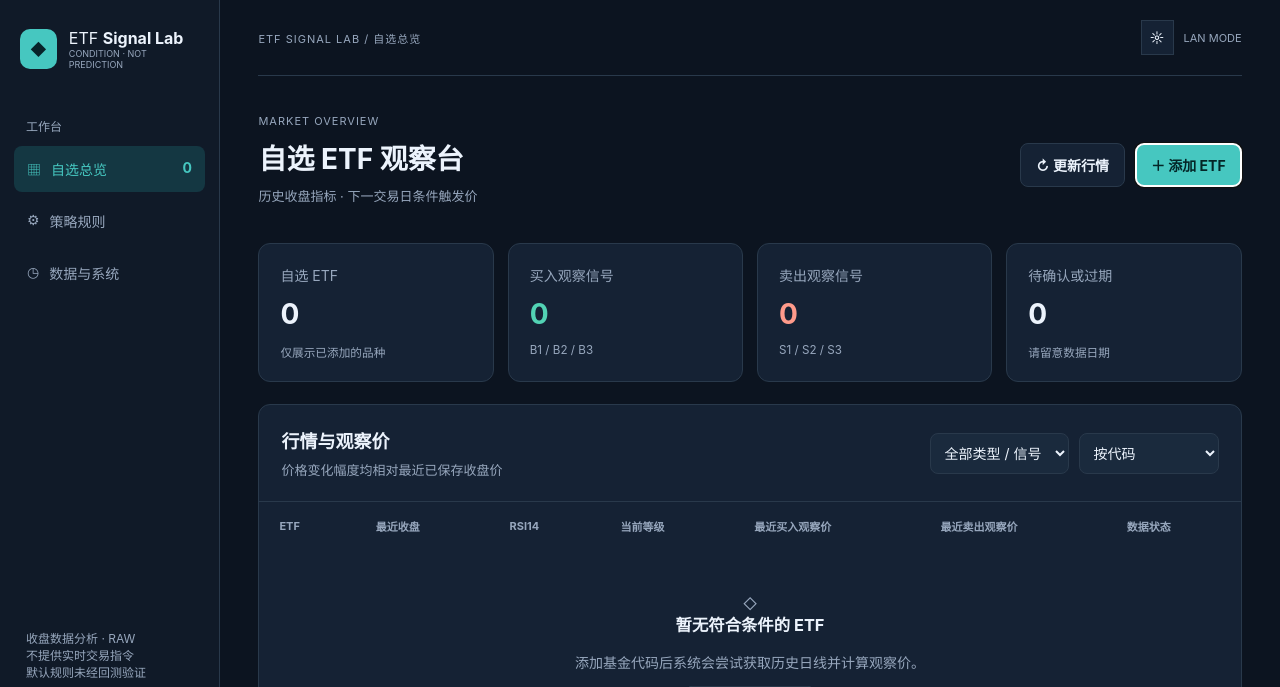
ETF panel interaction › renders the short, full and market names from search results
Click the button "＋ 添加 ETF".
click(1188, 164)  # box [1135,142,1242,186]
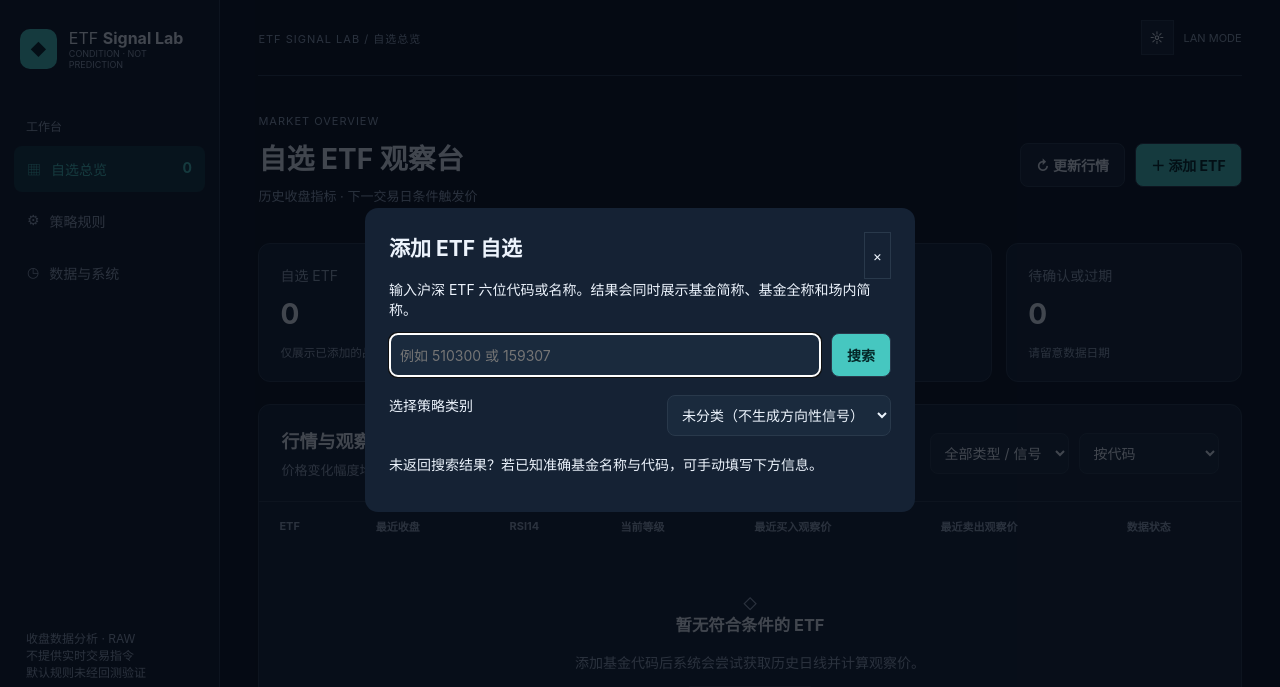
Type "159307" into the field with placeholder "例如 510300 或 159307".
click(605, 355); type("159307")  # box [389,333,821,377]
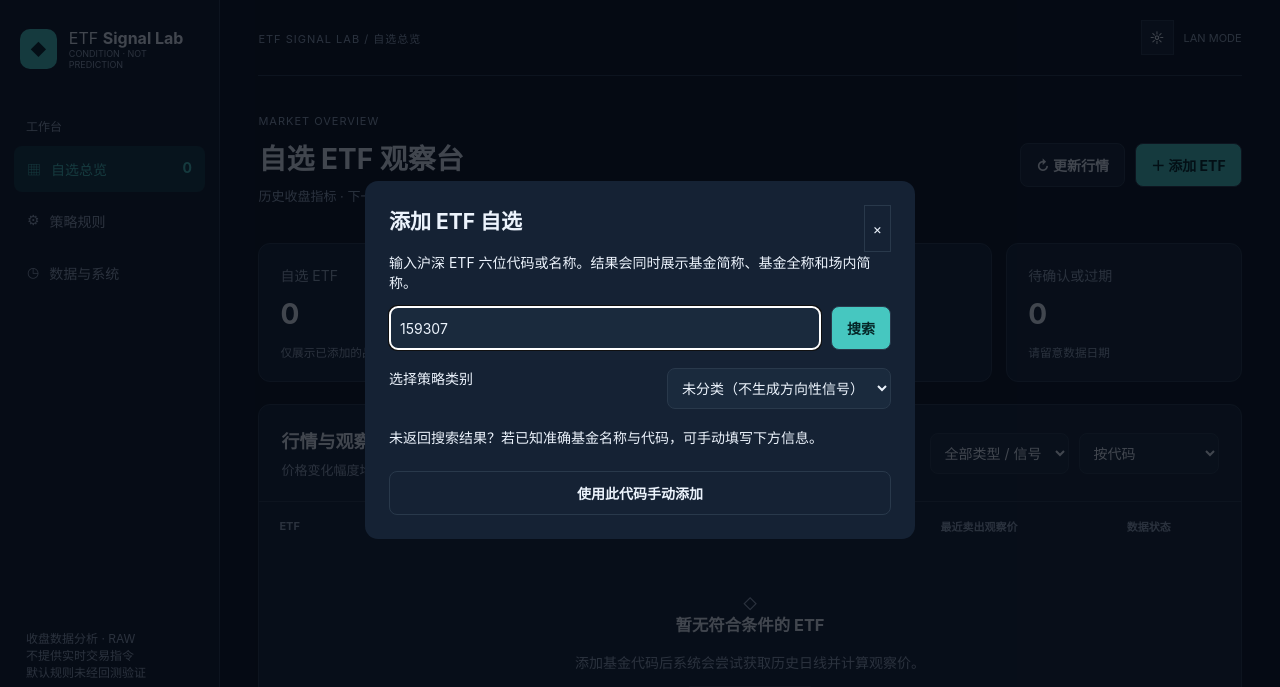
Click the button "搜索".
click(861, 328)  # box [831,306,891,350]
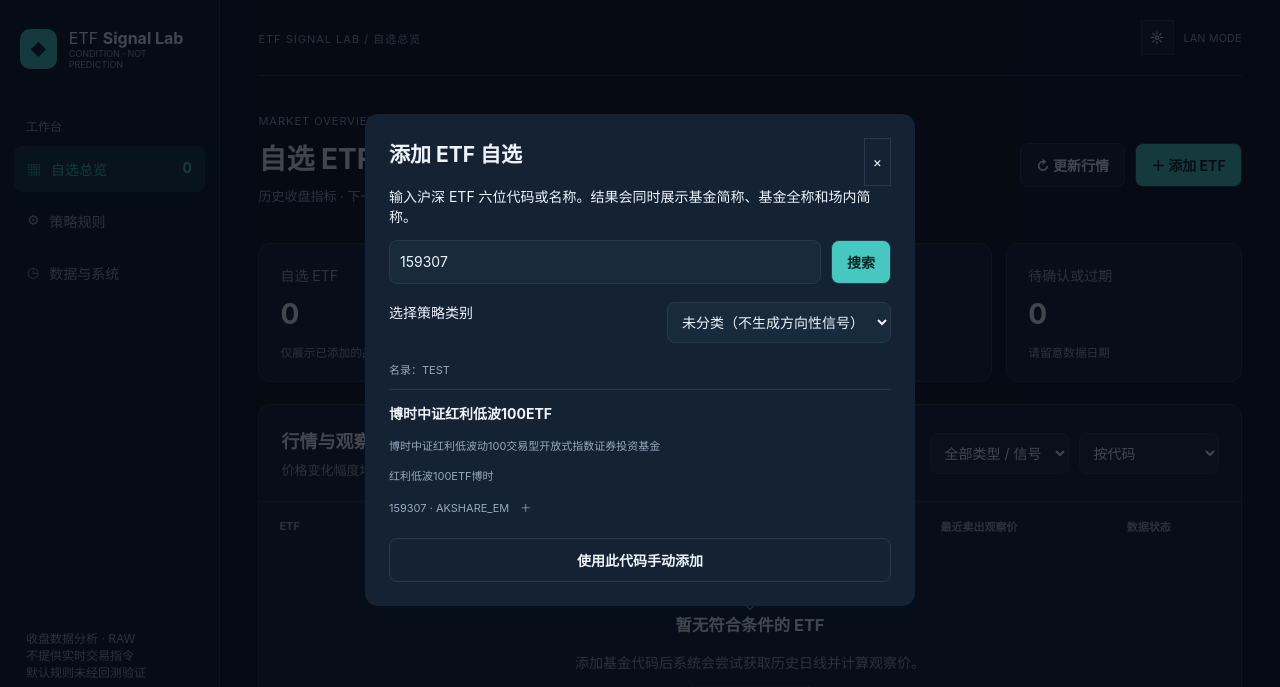
Expected: the text "博时中证红利低波100ETF" is shown, [389,403,552,423]
Expected: the text "博时中证红利低波动100交易型开放式指数证券投资基金" is shown, [389,437,660,453]
Expected: the text "红利低波100ETF博时" is shown, [389,467,494,483]
